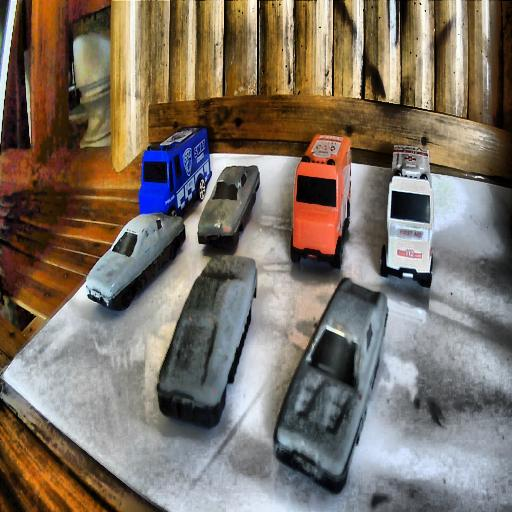ambulance: (380, 144, 434, 288), (390, 144, 432, 189)
fire_truck: (290, 134, 350, 270)
normal_car: (274, 280, 386, 491), (156, 255, 257, 429), (86, 210, 186, 313), (196, 163, 260, 251)
police car: (138, 125, 212, 219)
